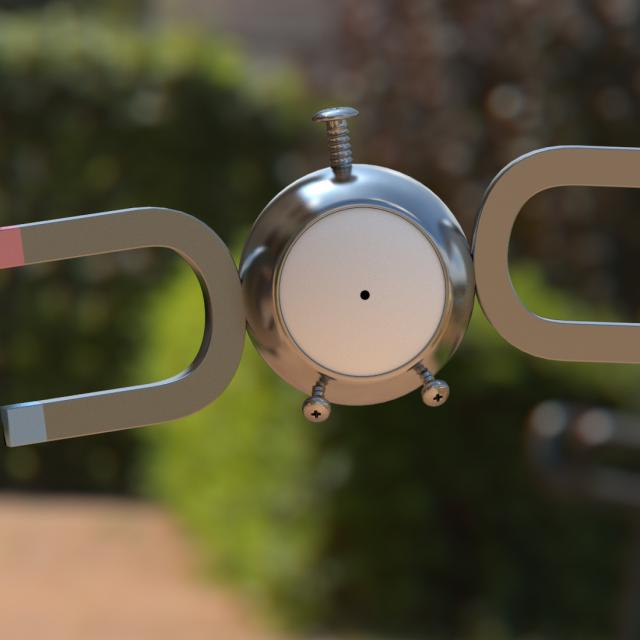Magnemite: (0, 143, 640, 452)
